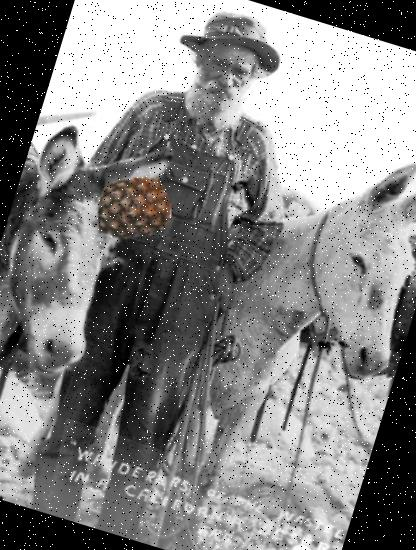Pineapple: (90, 162, 180, 254)
